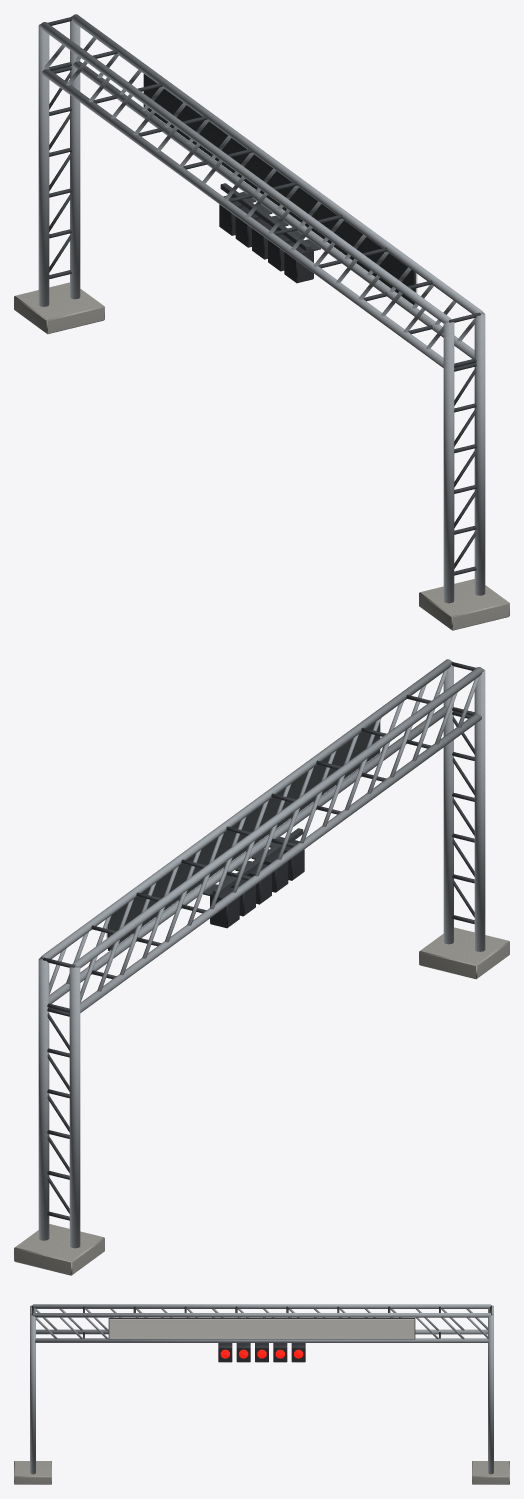
File: start-gantry_high.glb
3 renders of one model, top to bottom at view 1: azimuth 30°, elevation 25°; view 2: azimuth 150°, elevation 25°; view 3: azimuth 270°, elevation 25°, orthographic. The views are drawn at different scales.
Parts seen in each view (by area): view 1: galvanised, dark-steel, concrete, rubber; view 2: galvanised, dark-steel, concrete, rubber; view 3: galvanised, board-face, concrete, dark-steel, rubber.
Boxes of the visible parts, box(x1,y1,x2,y2) form: galvanised: box(38, 14, 485, 603); dark-steel: box(47, 17, 480, 575); concrete: box(14, 282, 509, 630); rubber: box(219, 196, 313, 283); galvanised: box(38, 659, 485, 1248); dark-steel: box(43, 662, 476, 1220); concrete: box(14, 927, 509, 1275); rubber: box(210, 840, 304, 928); galvanised: box(30, 1304, 493, 1474); board-face: box(109, 1319, 414, 1338); concrete: box(14, 1461, 509, 1484); dark-steel: box(32, 1305, 491, 1348); rubber: box(218, 1343, 305, 1362).
Size of the model in its own units: 1.5 by 7.3 by 19.5.
Materials: 6 (4 with a texture image).
